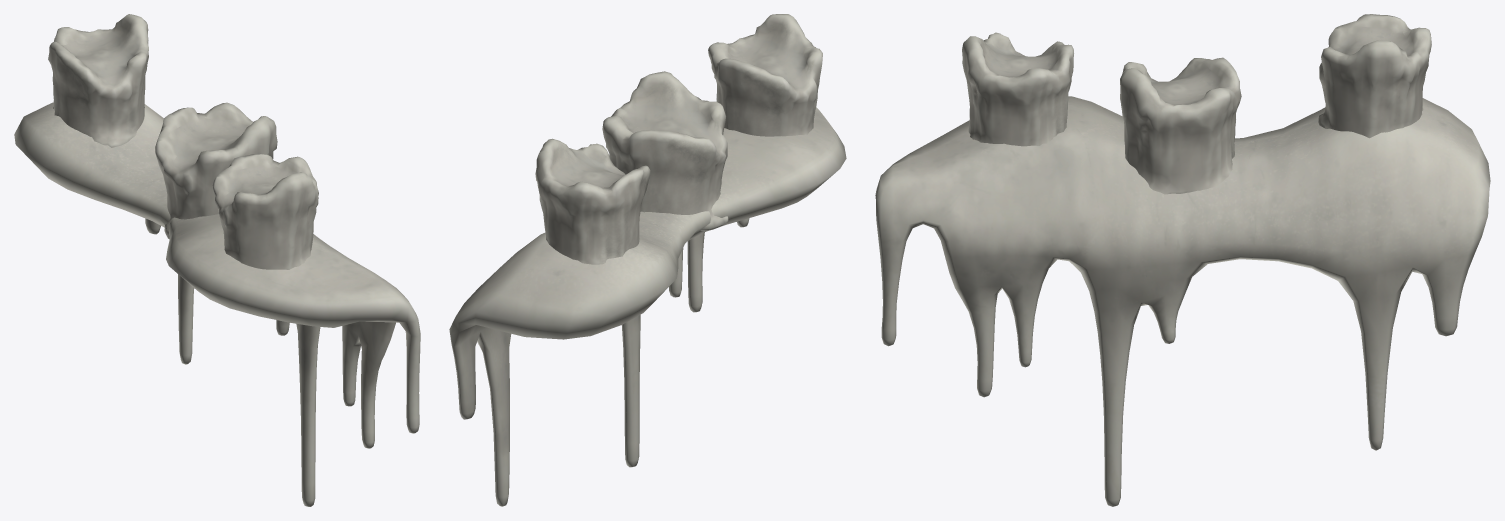
The model's file is MeltedWax.gltf.
3 views of the same model, side by side, from view 1: azimuth 30°, elevation 25°; view 2: azimuth 150°, elevation 25°; view 3: azimuth 270°, elevation 25° (orthographic). The views are drawn at different scales.
Parts seen in each view (by area): view 1: SM_Candle_Melted_01, SM_Candle_03, SM_Candle_02, SM_Candle_01; view 2: SM_Candle_Melted_01, SM_Candle_01, SM_Candle_03, SM_Candle_02; view 3: SM_Candle_Melted_01, SM_Candle_01, SM_Candle_03, SM_Candle_02.
Boxes of the visible parts, x1,y1,x2,y2 form: SM_Candle_Melted_01: (14,102,420,506); SM_Candle_03: (48,14,148,147); SM_Candle_02: (212,154,318,269); SM_Candle_01: (155,102,277,239); SM_Candle_Melted_01: (449,107,846,506); SM_Candle_01: (602,71,728,230); SM_Candle_03: (535,138,650,264); SM_Candle_02: (708,14,822,136); SM_Candle_Melted_01: (875,96,1490,506); SM_Candle_01: (1120,57,1241,194); SM_Candle_03: (1318,14,1431,138); SM_Candle_02: (962,32,1073,146).
Bounding box in the file's own units: 0.33 × 0.7408 × 0.9373.
Materials: 1 (1 with a texture image).
